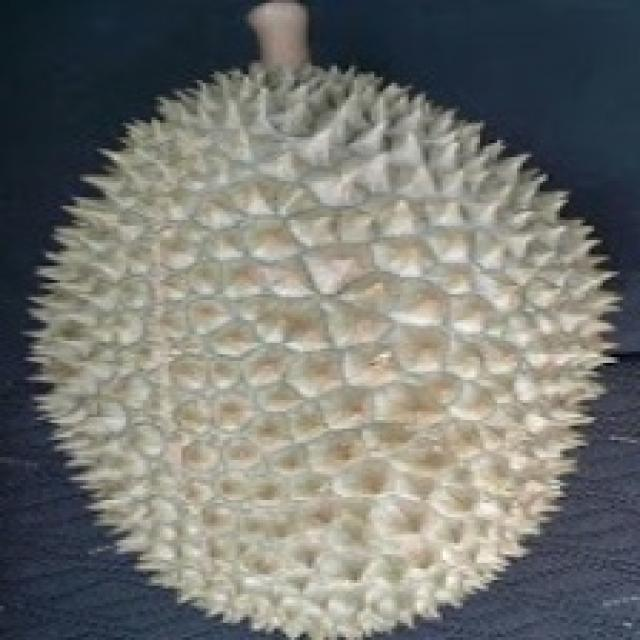d2: (30, 9, 622, 587)
